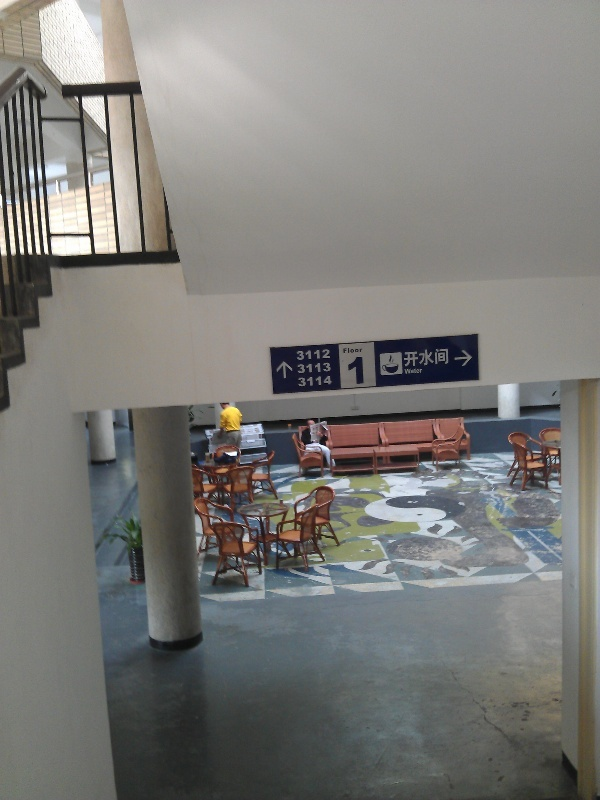text: (353, 357, 366, 386), (417, 348, 432, 367), (433, 348, 448, 367), (403, 348, 416, 367), (305, 349, 320, 361), (305, 362, 320, 374), (305, 376, 320, 388), (347, 357, 352, 386), (321, 376, 333, 388), (321, 349, 332, 361), (321, 362, 331, 374), (404, 367, 416, 376), (296, 349, 304, 361), (353, 347, 365, 355), (296, 376, 304, 388), (297, 362, 304, 374), (342, 347, 352, 355), (417, 367, 425, 376), (449, 348, 451, 367)
